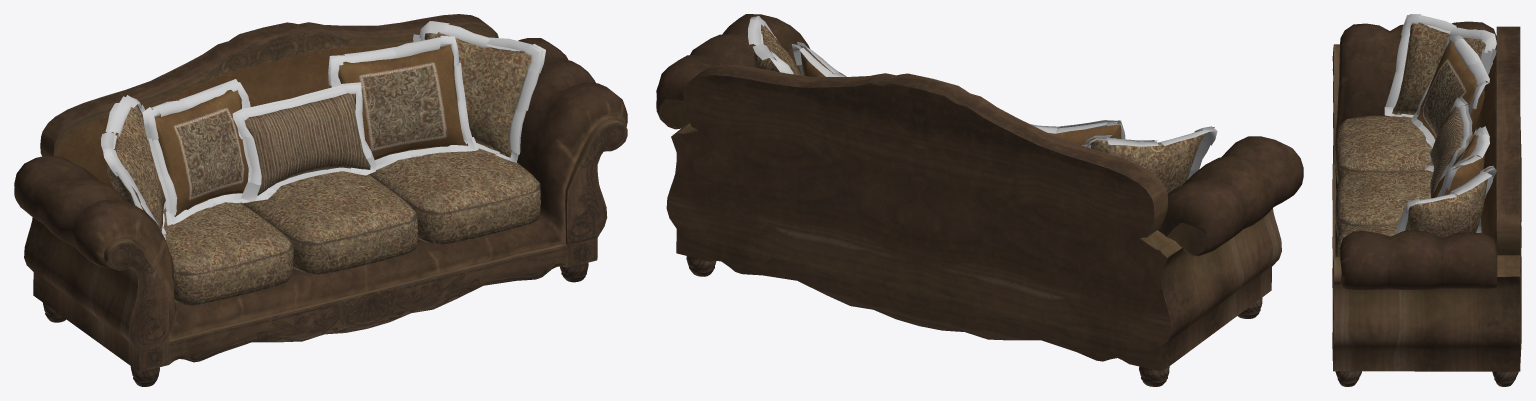
Rendered from Sofa.fbx.
3 renders of one model, left to right at view 1: azimuth 30°, elevation 25°; view 2: azimuth 150°, elevation 25°; view 3: azimuth 270°, elevation 25°, orthographic. The views are drawn at different scales.
Visible parts, largest first — view 1: sofa_03_4k_LOD0; view 2: sofa_03_4k_LOD0; view 3: sofa_03_4k_LOD0.
Part boxes in pixels (box(x1,y1,x2,y2)): sofa_03_4k_LOD0: box(14, 14, 627, 386); sofa_03_4k_LOD0: box(656, 14, 1303, 386); sofa_03_4k_LOD0: box(1332, 14, 1521, 386).
Size of the model in its own units: 273 by 112 by 92.51.
